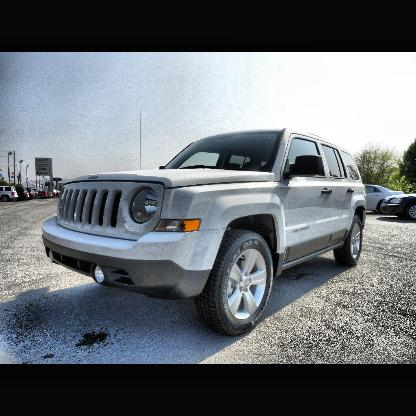Jeep Patriot SUV 2012: (42, 130, 369, 333)
